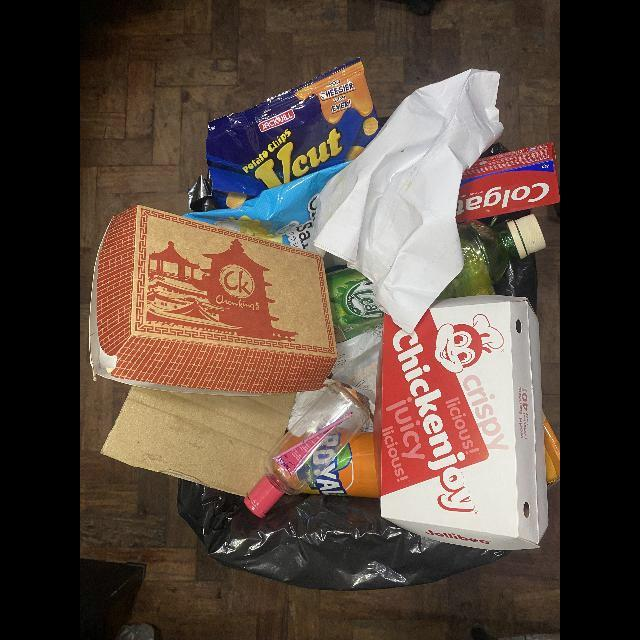cardboard: (89, 204, 338, 396), (101, 386, 297, 496), (456, 142, 560, 224)
food_wrapper: (187, 56, 381, 212), (182, 160, 352, 250)
glass_bottle: (243, 381, 371, 517)
paper: (307, 68, 503, 335)
plastic_bottle: (327, 213, 546, 344)
